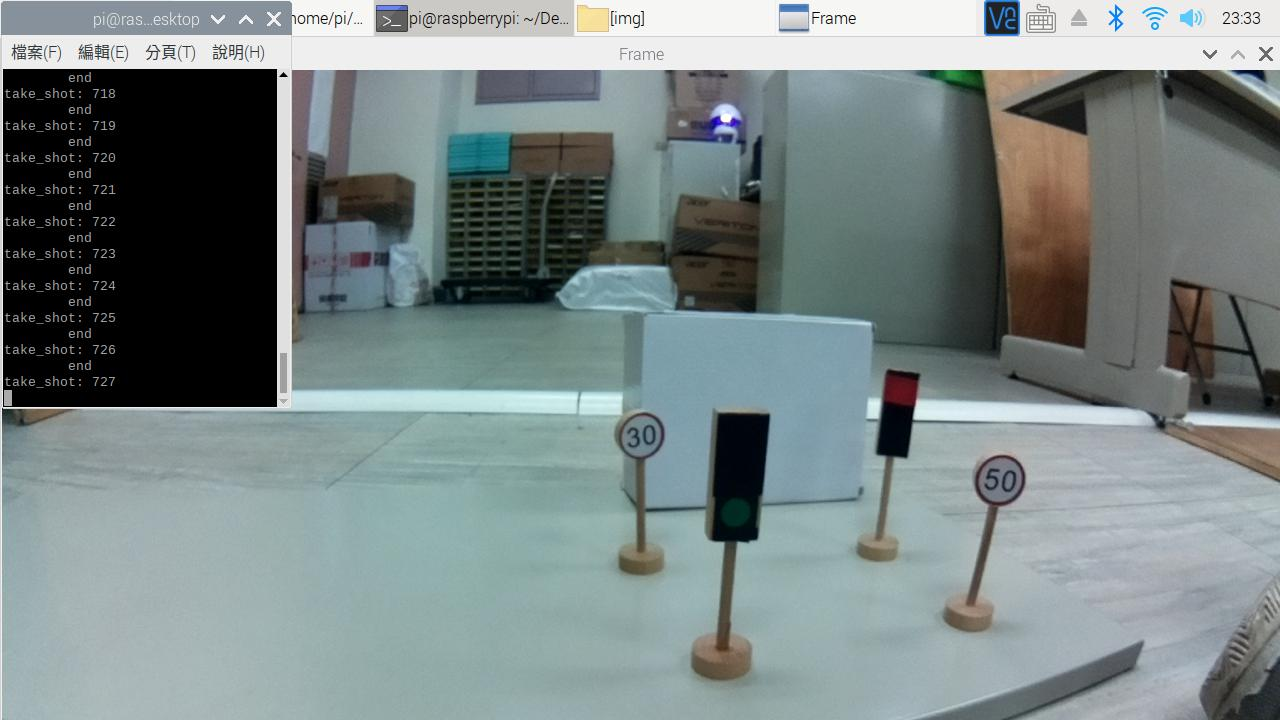Green: (709, 405, 763, 542)
Red: (877, 365, 912, 460)
Speed30: (611, 407, 668, 457)
Speed50: (972, 453, 1029, 505)
